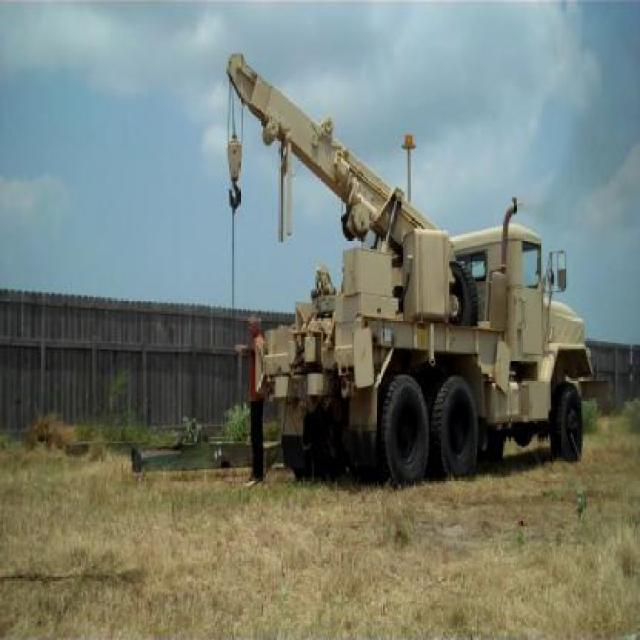Mobile Crane: (225, 50, 593, 487)
